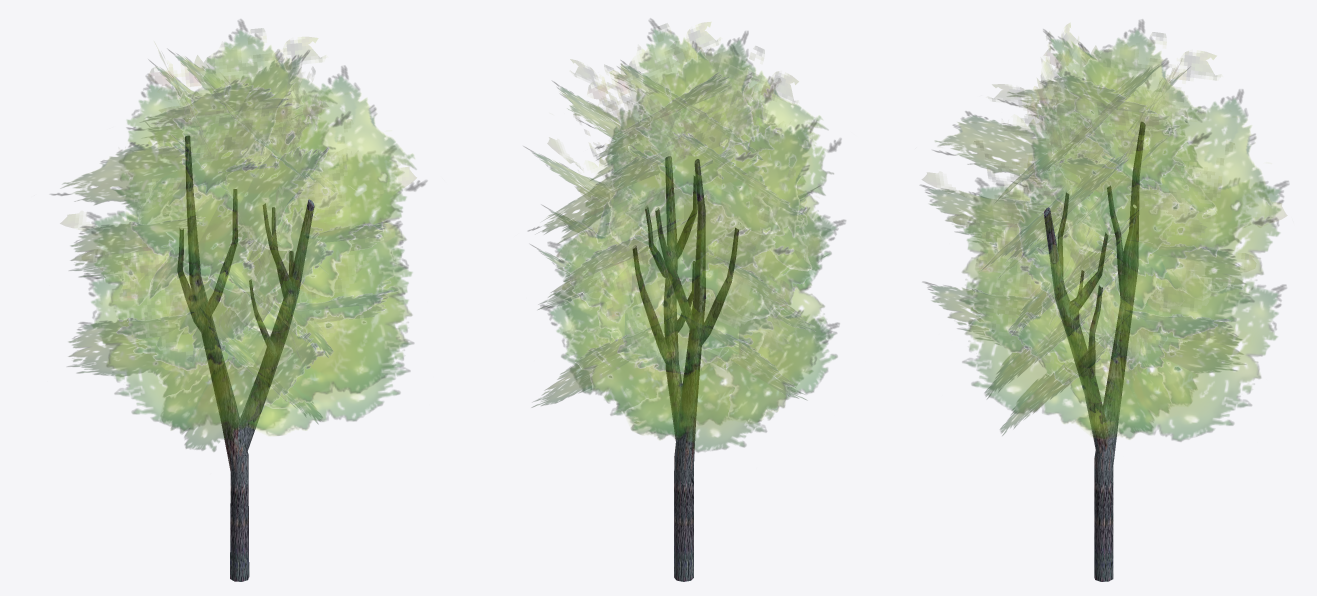
File: semitranswct.dae
The picture shows the model from 3 angles, left to right: view 1: azimuth 30°, elevation 25°; view 2: azimuth 150°, elevation 25°; view 3: azimuth 270°, elevation 25°; orthographic projection.
Visible parts, largest first — view 1: rama (×12), rama12 (×7), rama_1 (×4), tronco2, Group1, Group3, branch1 (×2), Group2; view 2: rama (×13), rama12 (×7), rama_1 (×4), tronco2, branch1 (×3), Group2, Group4, Group1, Group3, branch1_1_2; view 3: rama (×13), rama12 (×8), rama_1 (×4), tronco2, Group2, branch1 (×4), Group4, Group3.
Boxes of the visible parts, left/top/right/bottom form: rama (×12): left=51, top=66, right=426, bottom=430; rama12 (×7): left=67, top=147, right=413, bottom=451; rama_1 (×4): left=127, top=19, right=350, bottom=249; tronco2: left=185, top=136, right=314, bottom=581; Group1: left=120, top=28, right=416, bottom=374; Group3: left=60, top=93, right=339, bottom=278; branch1 (×2): left=177, top=189, right=237, bottom=333; Group2: left=216, top=49, right=322, bottom=361; rama (×13): left=528, top=46, right=841, bottom=436; rama12 (×7): left=525, top=115, right=845, bottom=452; rama_1 (×4): left=590, top=18, right=779, bottom=245; tronco2: left=663, top=156, right=705, bottom=581; branch1 (×3): left=632, top=207, right=738, bottom=363; Group2: left=588, top=22, right=717, bottom=379; Group4: left=557, top=84, right=774, bottom=300; Group1: left=548, top=60, right=786, bottom=318; Group3: left=585, top=43, right=820, bottom=358; branch1_1_2: left=675, top=173, right=697, bottom=258; rama (×13): left=933, top=89, right=1276, bottom=434; rama12 (×8): left=920, top=179, right=1288, bottom=441; rama_1 (×4): left=995, top=19, right=1214, bottom=252; tronco2: left=1044, top=122, right=1145, bottom=581; Group2: left=922, top=81, right=1215, bottom=271; branch1 (×4): left=1069, top=185, right=1136, bottom=385; Group4: left=976, top=32, right=1286, bottom=370; Group3: left=1027, top=23, right=1142, bottom=379.
Bounding box in the file's own units: 17.21 × 17.21 × 25.69.
